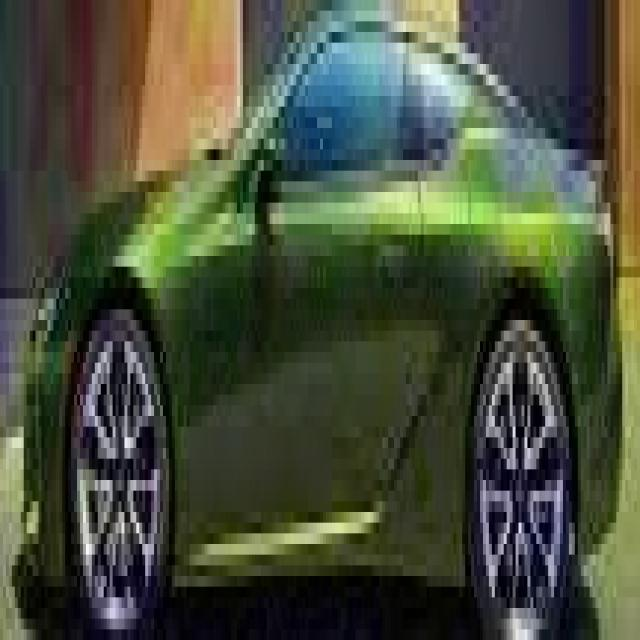green: (60, 0, 620, 640)
